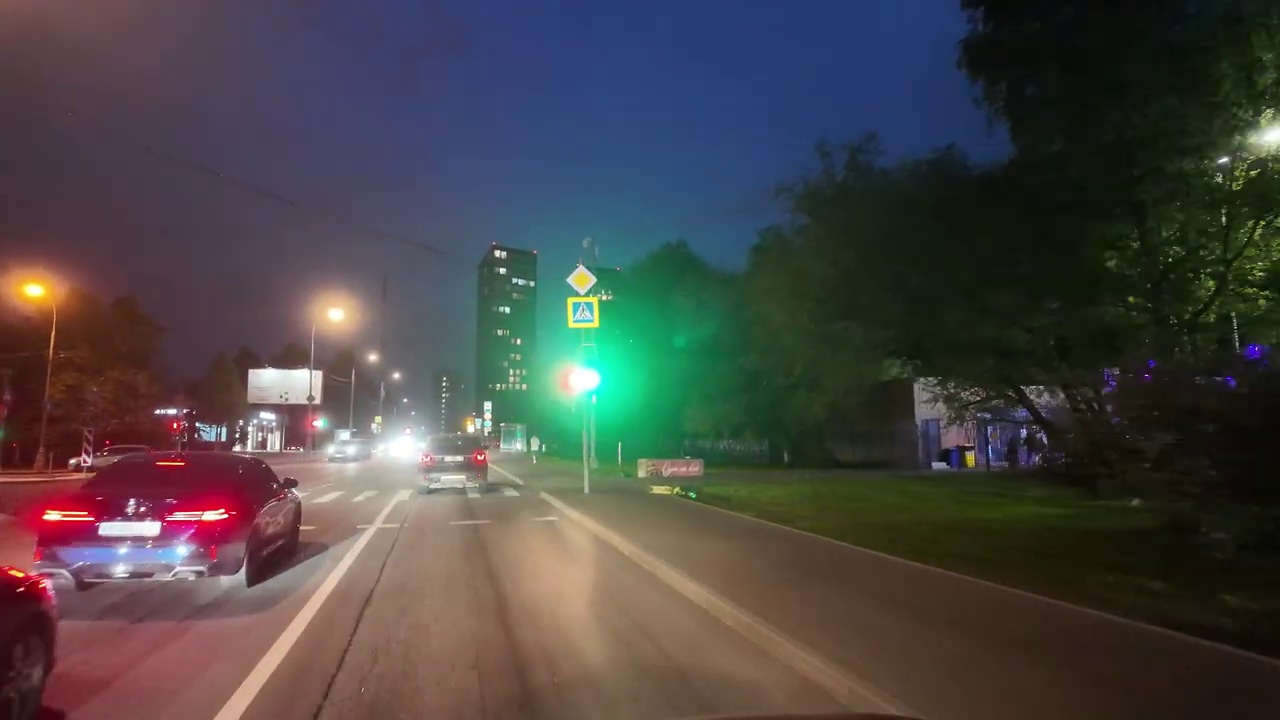acesa: (14, 272, 57, 313), (317, 296, 357, 333), (557, 365, 595, 397)
